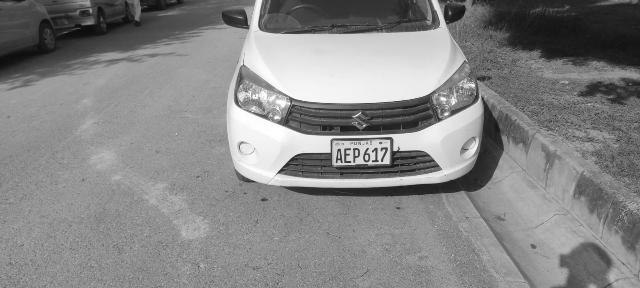Number: (335, 146, 390, 166)
